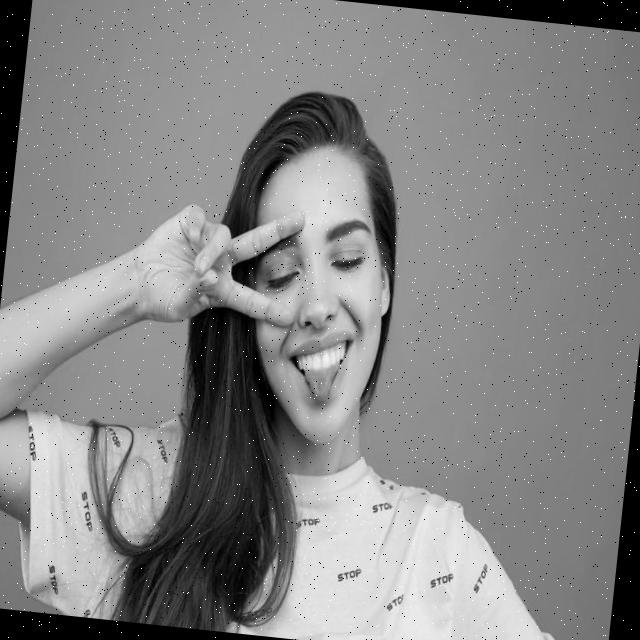Happiness: (227, 141, 401, 454)
